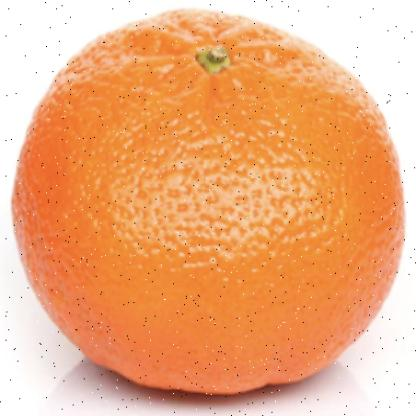fresh: (12, 11, 404, 396)
